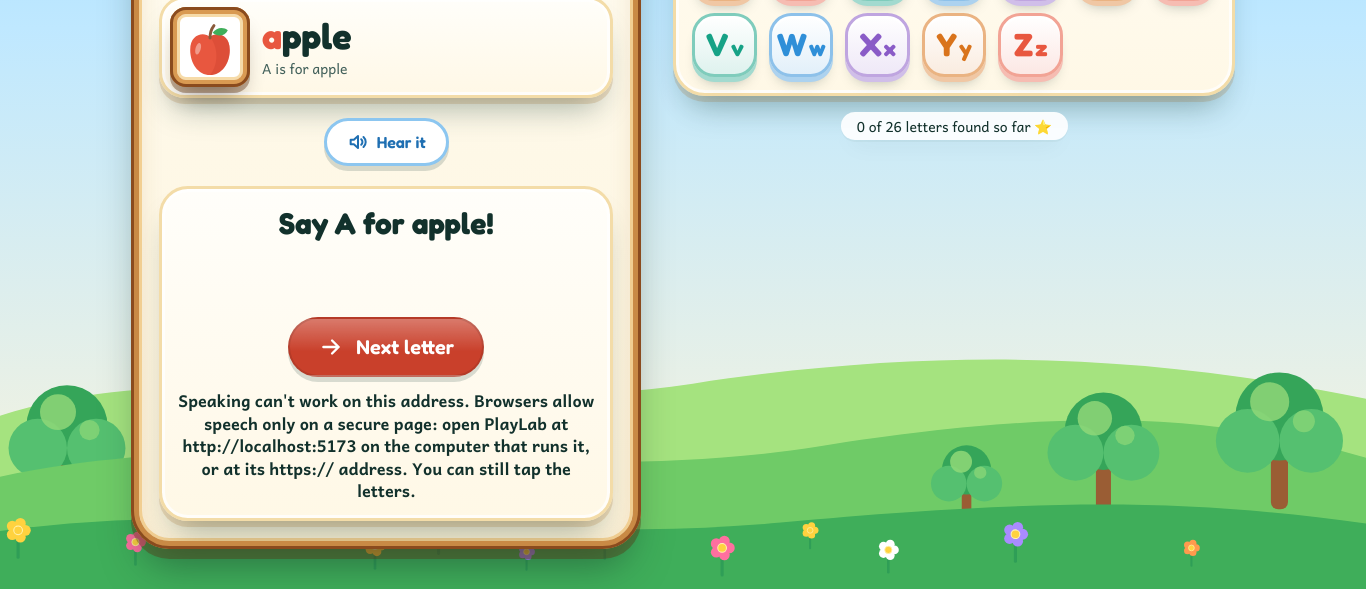
Test: Letter Playground: the guided lesson › without a microphone (an insecure page), the lesson is a tap lesson: Next letter moves on, and the letters still work
(page scrolled)
Click the button "Next letter": (386, 347) [288,317,484,377]
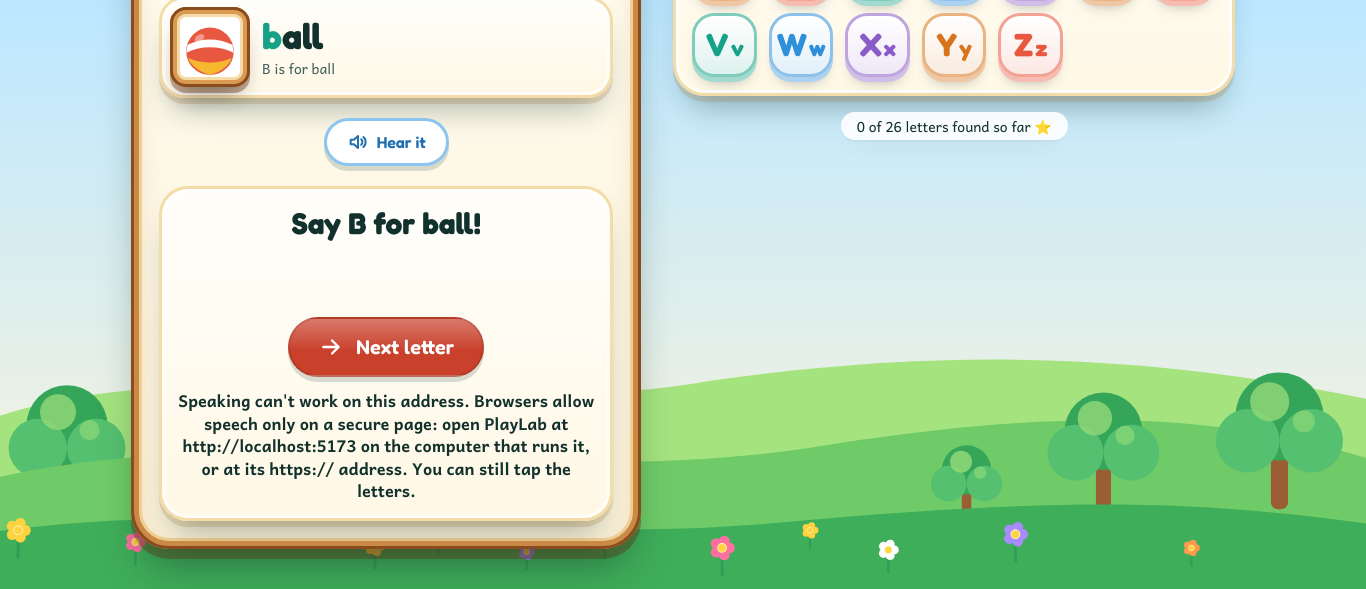
expect the text with test id "lesson-instruction" reads "Say B for ball!": met, box [291,205,481,241]
